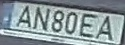0: (63, 11, 78, 35)
8: (50, 8, 65, 33)
A: (94, 14, 113, 42), (14, 4, 31, 29)
E: (78, 12, 98, 39)
N: (31, 6, 51, 32)
